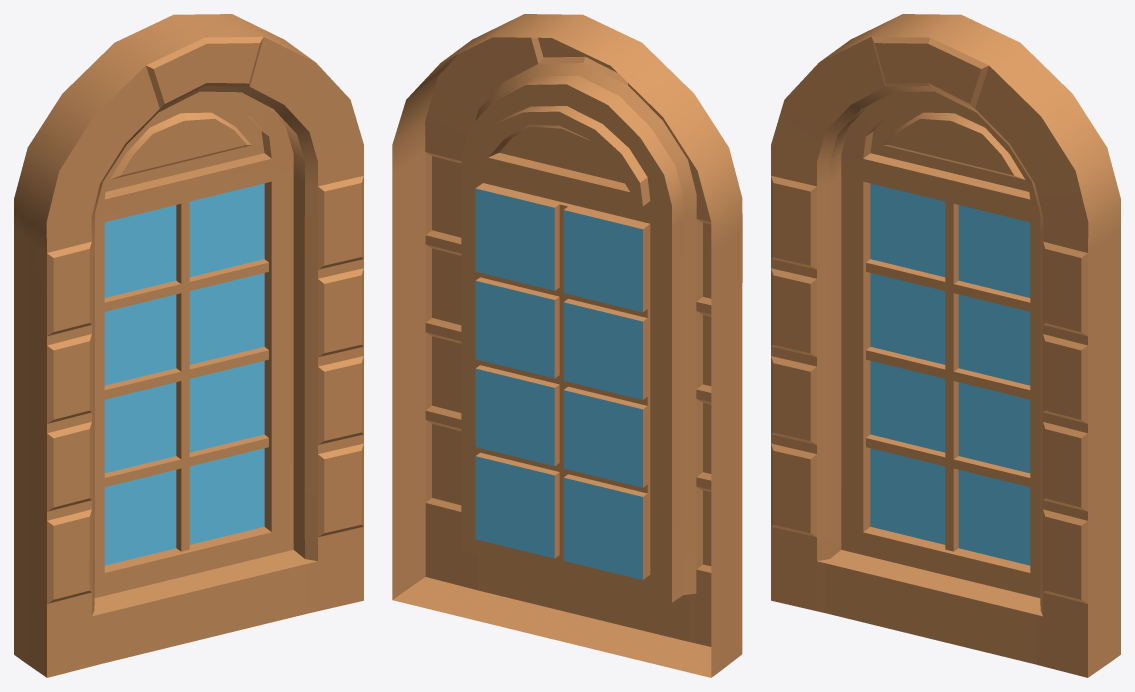
The model's file is Window8CurveDetail.fbx.
The picture shows the model from 3 angles, left to right: view 1: azimuth 30°, elevation 25°; view 2: azimuth 150°, elevation 25°; view 3: azimuth 330°, elevation 25°; orthographic projection.
Visible parts, largest first — view 1: Window8CurveDetail; view 2: Window8CurveDetail; view 3: Window8CurveDetail.
Part boxes in pixels (x1,y1,x2,y2): Window8CurveDetail: (14,14,363,677); Window8CurveDetail: (392,14,742,677); Window8CurveDetail: (771,14,1120,677).
Bounding box in the file's own units: 1.9 × 0.3538 × 3.43.
